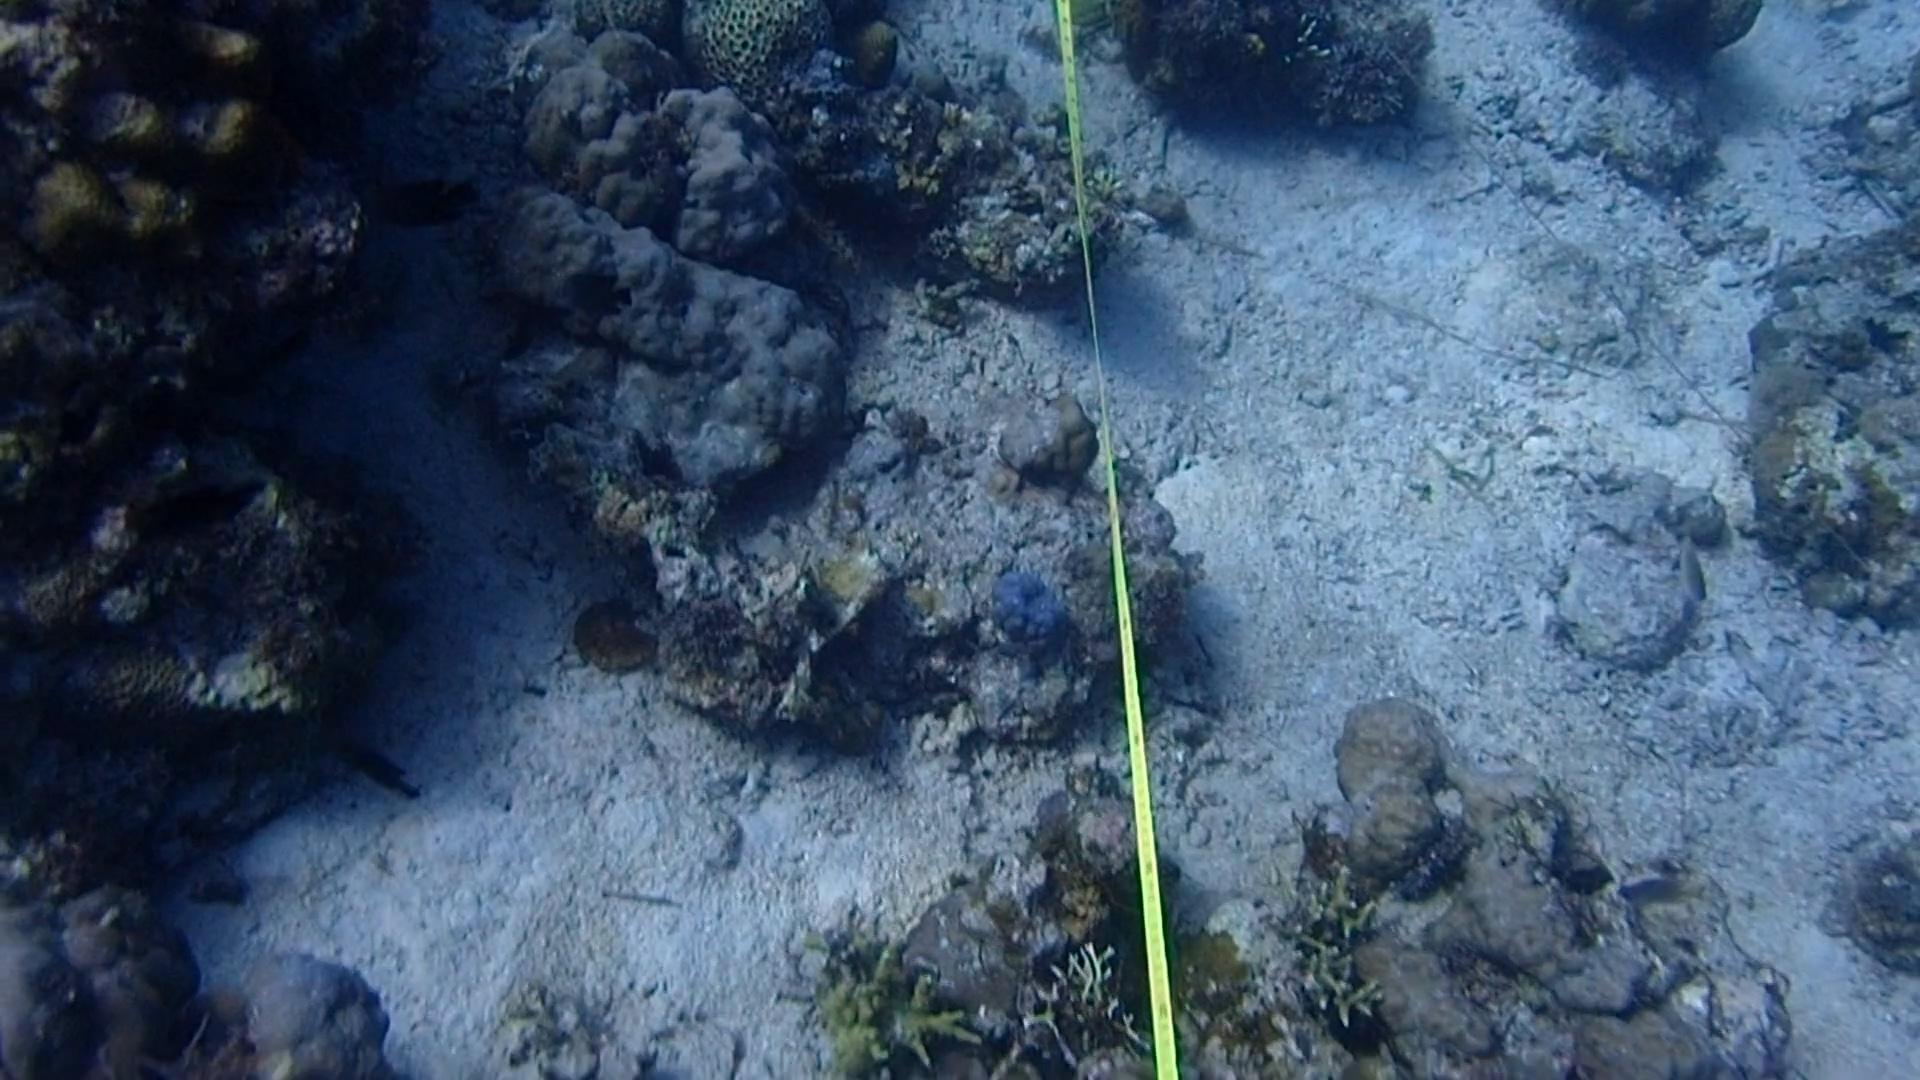Dark Fish: (303, 705, 431, 832), (113, 473, 284, 556), (360, 164, 497, 249), (86, 8, 216, 92), (558, 268, 645, 330)
Light Fish: (1658, 530, 1721, 612)
